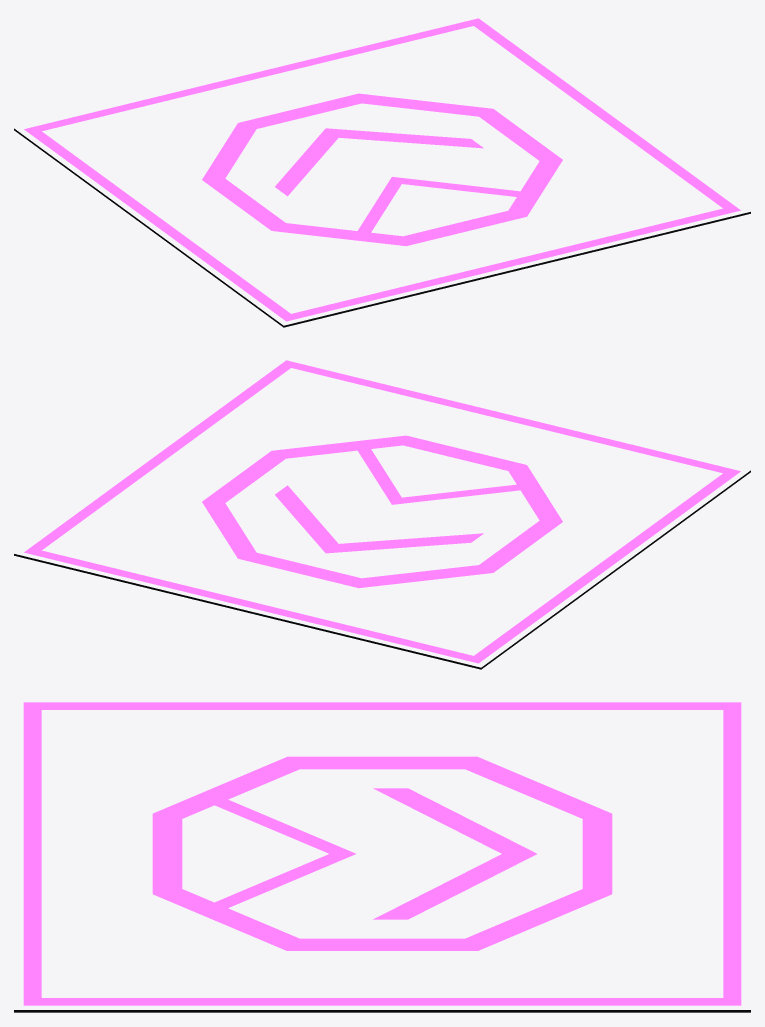
The model's file is OVL_Arena_Active_MagneticField.glb.
3 renders of one model, top to bottom at view 1: azimuth 30°, elevation 25°; view 2: azimuth 150°, elevation 25°; view 3: azimuth 270°, elevation 25°, orthographic. The views are drawn at different scales.
Visible parts, largest first — view 1: OVL_ActiveMagField_Border, OVL_ActiveMagField_Ring, OVL_ActiveMagField_PullVector, OVL_Carrier_ActiveMagField; view 2: OVL_ActiveMagField_Border, OVL_ActiveMagField_Ring, OVL_ActiveMagField_PullVector, OVL_Carrier_ActiveMagField; view 3: OVL_ActiveMagField_Border, OVL_ActiveMagField_Ring, OVL_ActiveMagField_PullVector, OVL_Carrier_ActiveMagField.
Boxes of the visible parts, <box> form: OVL_ActiveMagField_Border: <box>24,18,740,321</box>; OVL_ActiveMagField_Ring: <box>202,93,562,246</box>; OVL_ActiveMagField_PullVector: <box>275,128,530,238</box>; OVL_Carrier_ActiveMagField: <box>14,128,750,327</box>; OVL_ActiveMagField_Border: <box>24,360,740,663</box>; OVL_ActiveMagField_Ring: <box>202,435,562,588</box>; OVL_ActiveMagField_PullVector: <box>275,443,530,553</box>; OVL_Carrier_ActiveMagField: <box>14,470,750,669</box>; OVL_ActiveMagField_Border: <box>23,702,741,1005</box>; OVL_ActiveMagField_Ring: <box>152,756,612,950</box>; OVL_ActiveMagField_PullVector: <box>200,788,536,919</box>; OVL_Carrier_ActiveMagField: <box>14,1010,750,1012</box>.
Bounding box in the file's own units: 11.4 × 0.05 × 11.4.
2 materials, 2 textured.
